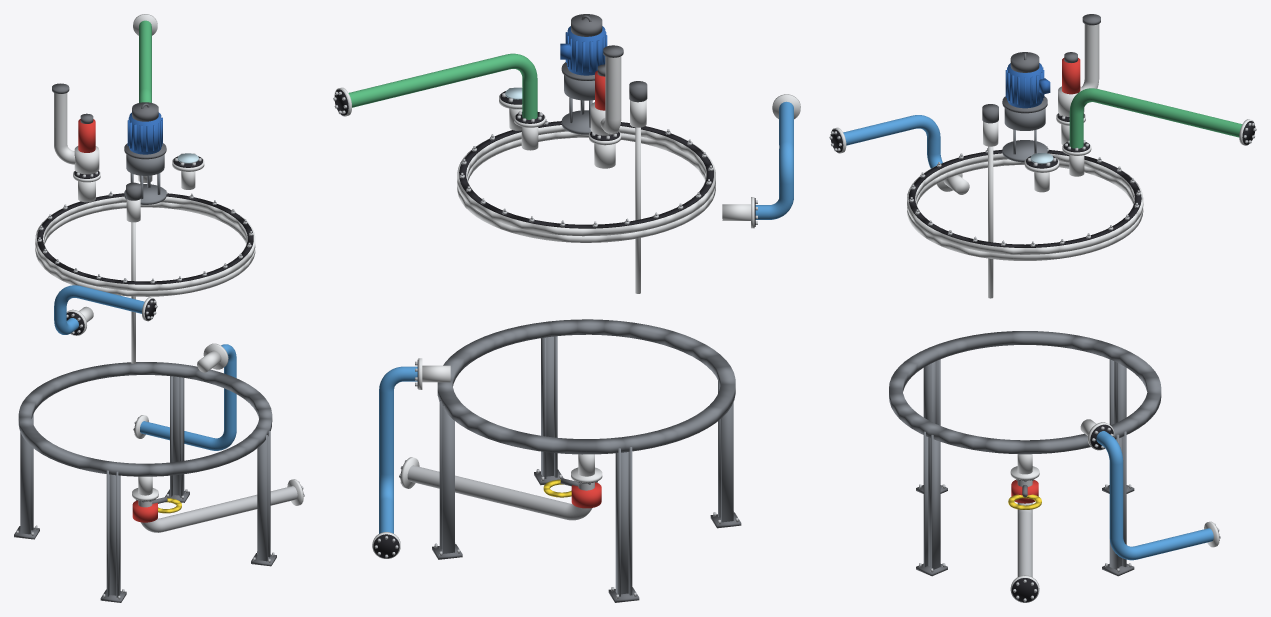
The model's file is reactor-details.glb.
The picture shows the model from 3 angles, left to right: view 1: azimuth 30°, elevation 25°; view 2: azimuth 150°, elevation 25°; view 3: azimuth 270°, elevation 25°; orthographic projection. The views are drawn at different scales.
Visible parts, largest first — view 1: Legs_Assembly, Piping_Assembly, Flanges_Lid, Nozzles_Assembly, Motor_Assembly; view 2: Legs_Assembly, Piping_Assembly, Flanges_Lid, Nozzles_Assembly, Motor_Assembly; view 3: Legs_Assembly, Piping_Assembly, Flanges_Lid, Nozzles_Assembly, Motor_Assembly.
Part boxes in pixels (x1=…): Legs_Assembly: x1=14, y1=362, x2=276, y2=602; Piping_Assembly: x1=52, y1=14, x2=304, y2=532; Flanges_Lid: x1=35, y1=190, x2=255, y2=296; Nozzles_Assembly: x1=66, y1=113, x2=228, y2=502; Motor_Assembly: x1=124, y1=102, x2=166, y2=204; Legs_Assembly: x1=432, y1=319, x2=741, y2=602; Piping_Assembly: x1=333, y1=45, x2=800, y2=558; Flanges_Lid: x1=457, y1=119, x2=715, y2=242; Nozzles_Assembly: x1=415, y1=64, x2=757, y2=484; Motor_Assembly: x1=560, y1=14, x2=607, y2=134; Legs_Assembly: x1=889, y1=331, x2=1161, y2=576; Piping_Assembly: x1=829, y1=14, x2=1256, y2=602; Flanges_Lid: x1=907, y1=146, x2=1143, y2=260; Nozzles_Assembly: x1=936, y1=52, x2=1114, y2=481; Motor_Assembly: x1=1002, y1=52, x2=1050, y2=162.
Bounding box in the file's own units: 0.8252 × 1.24 × 0.9907.
